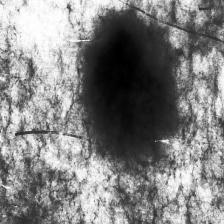Benign Marking or Mole: (96, 43, 163, 132)
